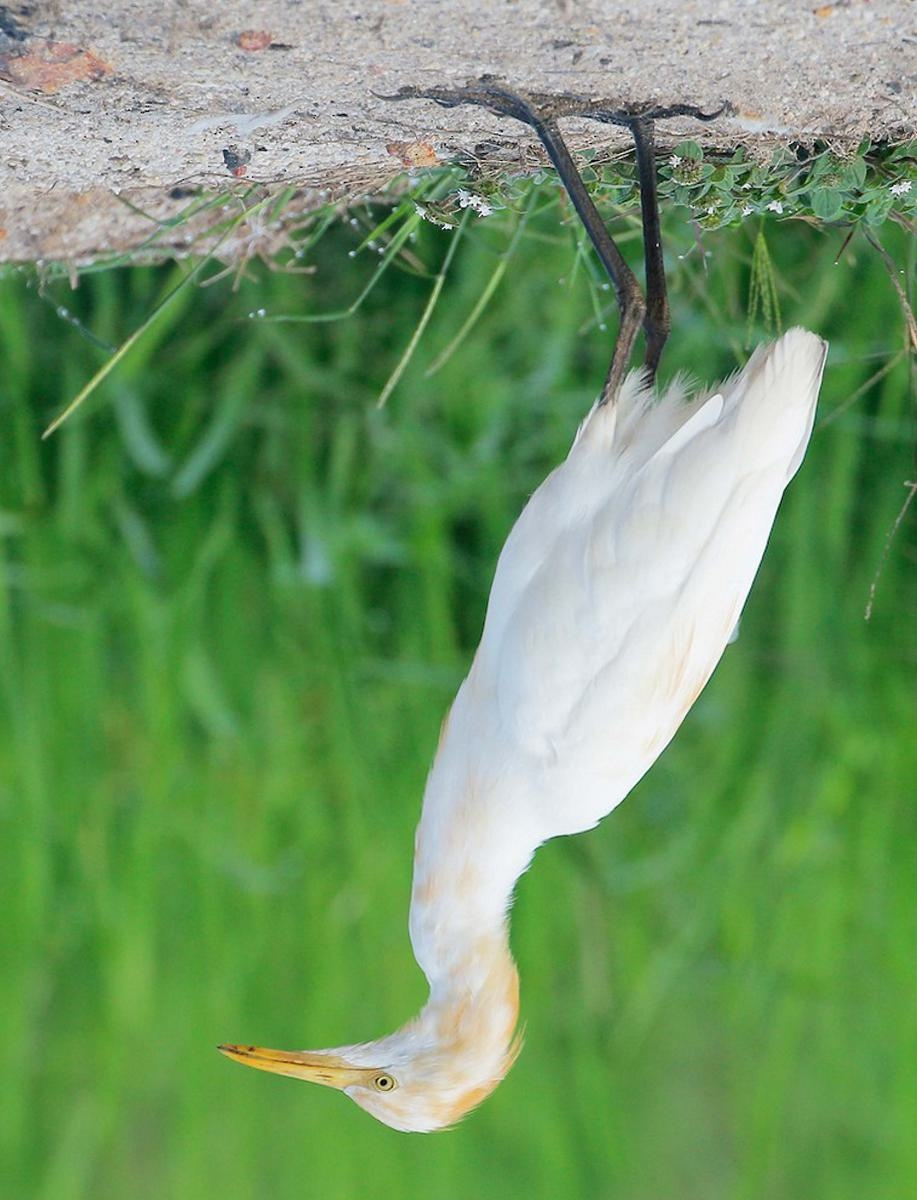egret: (209, 43, 836, 1151)
